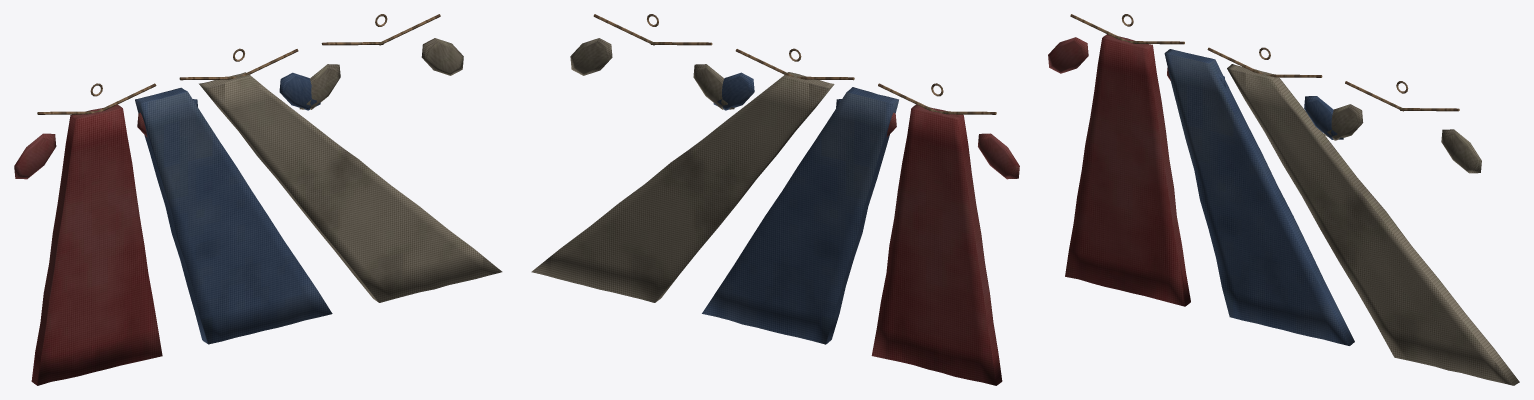
Rendered from CL01_HangingDress.glb.
3 renders of one model, left to right at view 1: azimuth 30°, elevation 25°; view 2: azimuth 150°, elevation 25°; view 3: azimuth 330°, elevation 25°, orthographic. The views are drawn at different scales.
Visible parts, largest first — view 1: CL01_HangingDress; view 2: CL01_HangingDress; view 3: CL01_HangingDress.
Part boxes in pixels (<box>): CL01_HangingDress: <box>14,14,502,385</box>; CL01_HangingDress: <box>531,14,1019,385</box>; CL01_HangingDress: <box>1048,14,1519,385</box>.
Size of the model in its own units: 1 by 0.5625 by 0.0251.
Materials: 4 (4 with a texture image).
